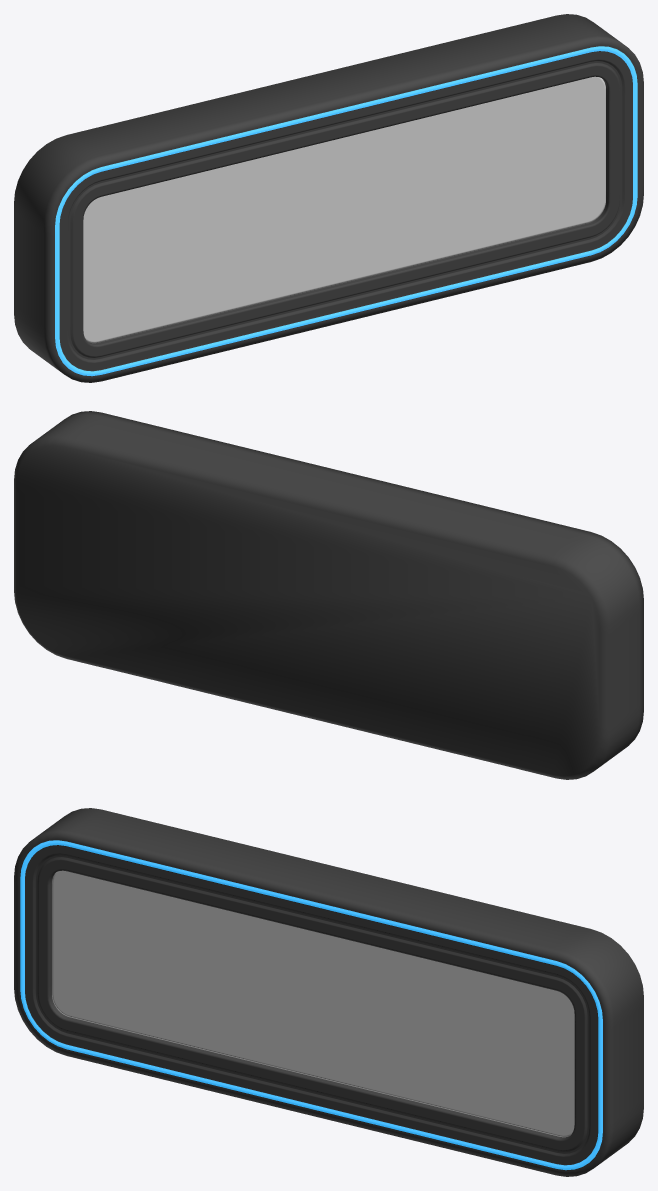
The model's file is ElecticClock.fbx.
3 views of the same model, one above another, from view 1: azimuth 30°, elevation 25°; view 2: azimuth 150°, elevation 25°; view 3: azimuth 330°, elevation 25° (orthographic).
Visible parts, largest first — view 1: Clock; view 2: Clock; view 3: Clock.
Boxes of the visible parts, x1,y1,x2,y2 form: Clock: (14,14,643,382); Clock: (14,411,643,779); Clock: (14,808,643,1176).
Bounding box in the file's own units: 626 × 222 × 70.3.
